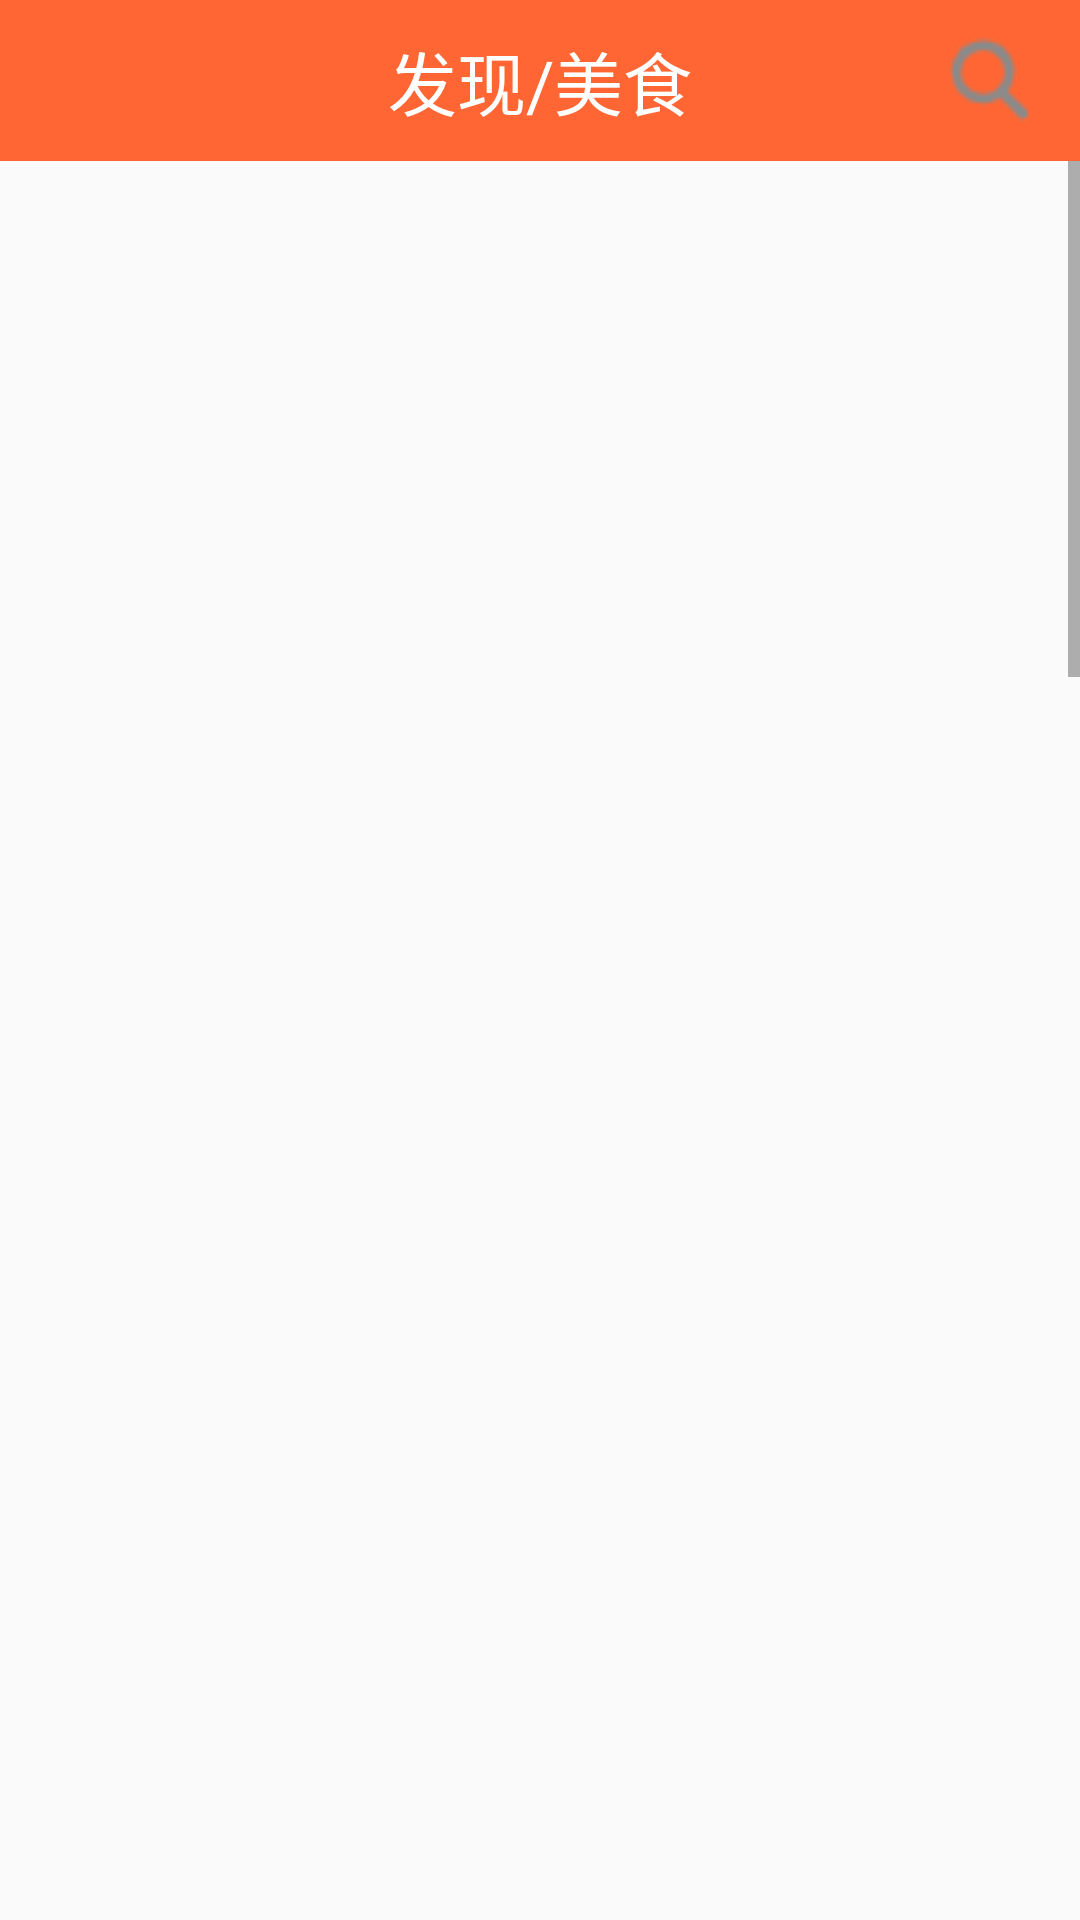

Named icons in this screenshot (1080w x 1920h) and their centers, [x,y]:
glass: [990,80]
